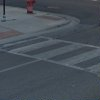crosswalk: (9, 36, 100, 72)
